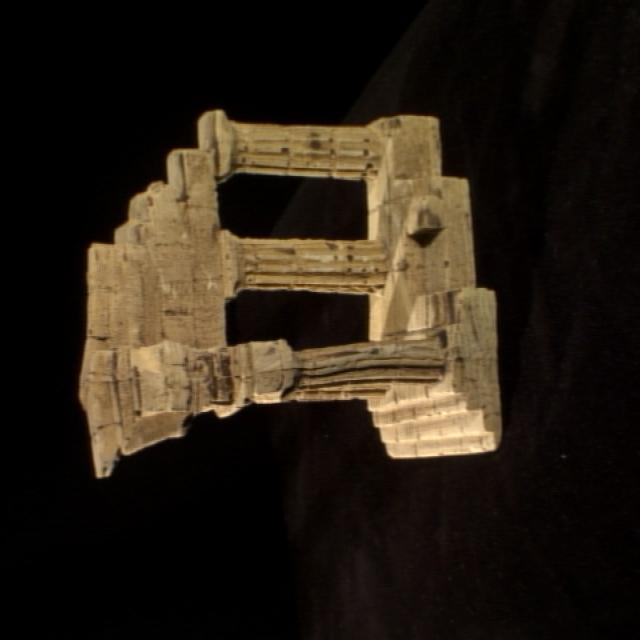Instance-Segmentation: (80, 111, 500, 476), (407, 289, 463, 329)
